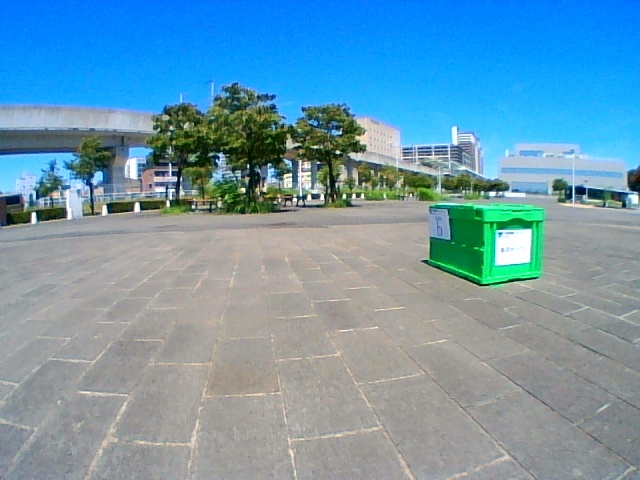green_box: (427, 203, 540, 285)
tag_b: (429, 208, 448, 238)
